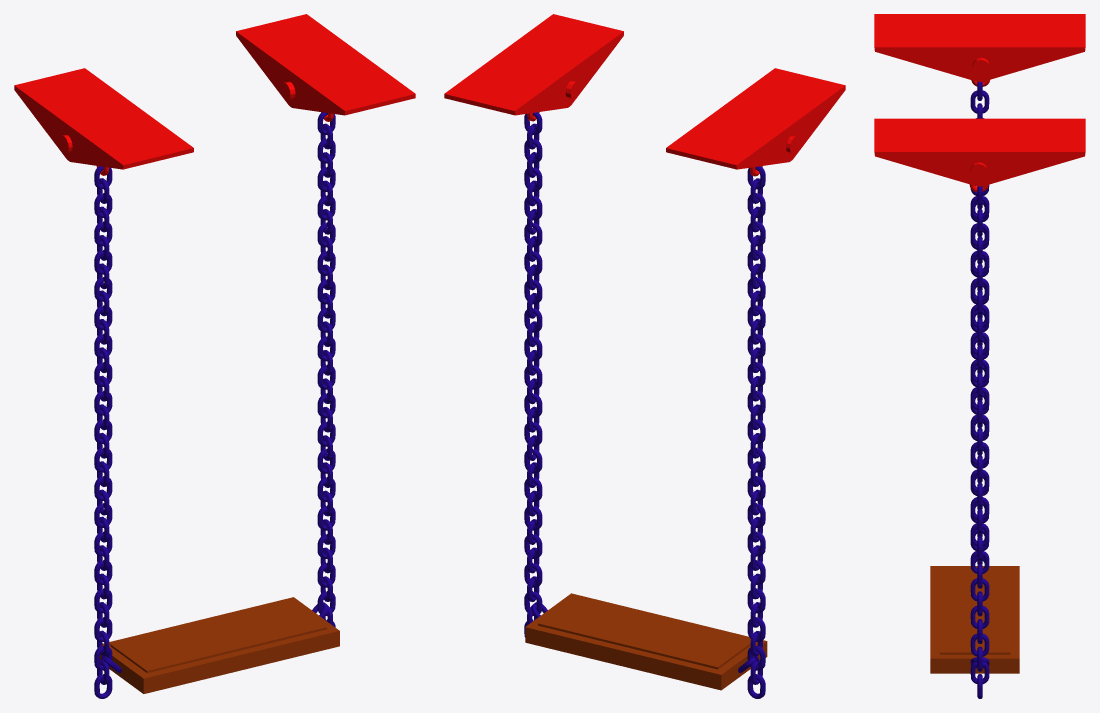
File: Swing.fbx
3 views of the same model, side by side, from view 1: azimuth 30°, elevation 25°; view 2: azimuth 150°, elevation 25°; view 3: azimuth 270°, elevation 25° (orthographic). The views are drawn at different scales.
Parts seen in each view (by area): view 1: Swing_Seaty, Swing_Base001, Swing_Base, Swing_Chain014, Swing_Chain015; view 2: Swing_Seaty, Swing_Base, Swing_Base001, Swing_Chain014, Swing_Chain015; view 3: Swing_Base001, Swing_Base, Swing_Seaty, Swing_Chain015, Swing_Chain014.
Boxes of the visible parts, x1=… form: Swing_Seaty: x1=99, y1=597, x2=339, y2=693; Swing_Base001: x1=236, y1=14, x2=415, y2=121; Swing_Base: x1=14, y1=68, x2=193, y2=175; Swing_Chain014: x1=94, y1=166, x2=121, y2=698; Swing_Chain015: x1=312, y1=112, x2=335, y2=627; Swing_Seaty: x1=525, y1=593, x2=767, y2=690; Swing_Base: x1=666, y1=68, x2=845, y2=176; Swing_Base001: x1=444, y1=14, x2=623, y2=121; Swing_Chain014: x1=738, y1=166, x2=765, y2=698; Swing_Chain015: x1=524, y1=112, x2=547, y2=637; Swing_Base001: x1=874, y1=118, x2=1085, y2=191; Swing_Base: x1=874, y1=14, x2=1085, y2=86; Swing_Seaty: x1=930, y1=566, x2=1019, y2=673; Swing_Chain015: x1=970, y1=186, x2=989, y2=698; Swing_Chain014: x1=970, y1=81, x2=989, y2=565.
Bounding box in the file's own units: 0.941 × 0.5926 × 1.74.
